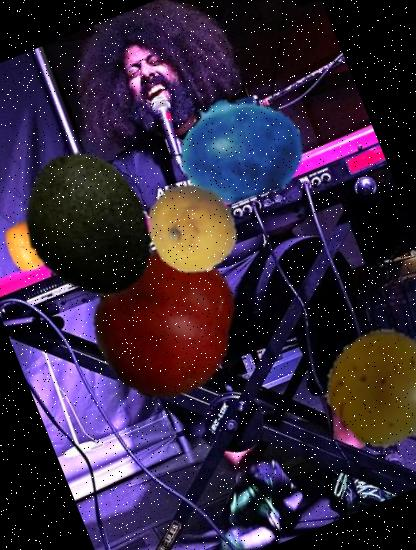Avocado: (0, 127, 183, 321)
Grape: (311, 313, 416, 461)
Huckleberry: (160, 67, 320, 227)
Kumquats: (0, 212, 60, 280)
Lemon: (133, 167, 253, 287)
Nectarine: (65, 225, 260, 420)
